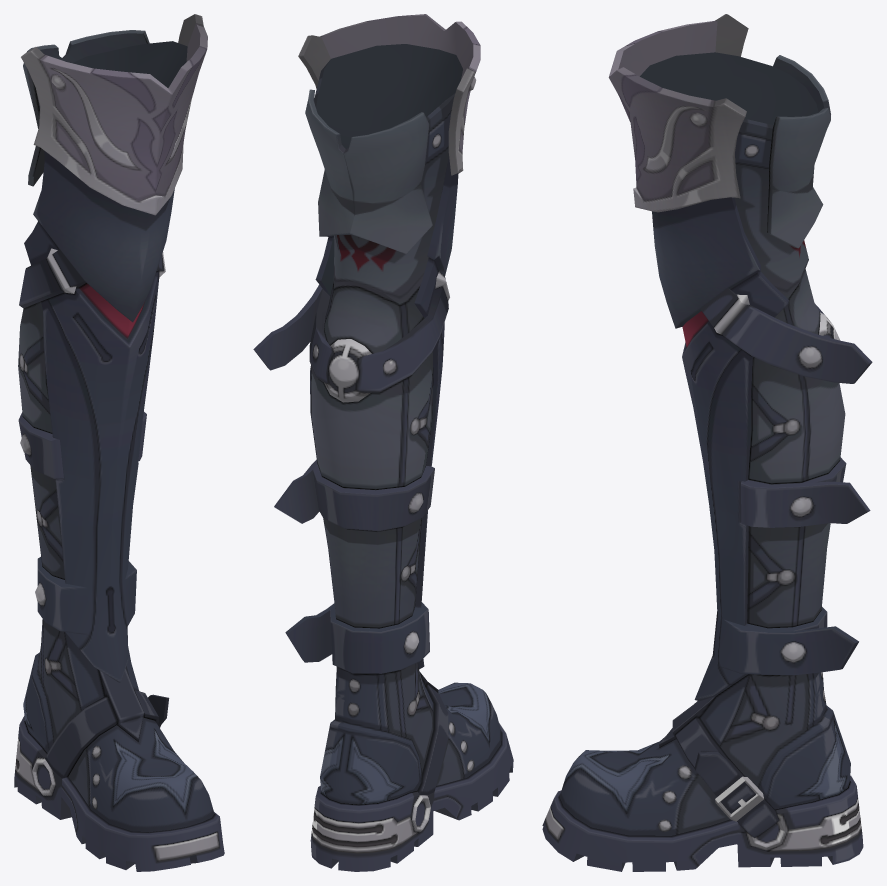
The model's file is W_Boot_L.glb.
3 renders of one model, left to right at view 1: azimuth 30°, elevation 25°; view 2: azimuth 150°, elevation 25°; view 3: azimuth 270°, elevation 25°, orthographic. The views are drawn at different scales.
Visible parts, largest first — view 1: W_Boot_L; view 2: W_Boot_L; view 3: W_Boot_L.
Boxes of the visible parts, x1=… form: W_Boot_L: x1=14, y1=14, x2=224, y2=871; W_Boot_L: x1=253, y1=14, x2=513, y2=871; W_Boot_L: x1=542, y1=14, x2=872, y2=871.
Size of the model in its own units: 0.1879 by 0.8256 by 0.3099.
Materials: 1 (1 with a texture image).
